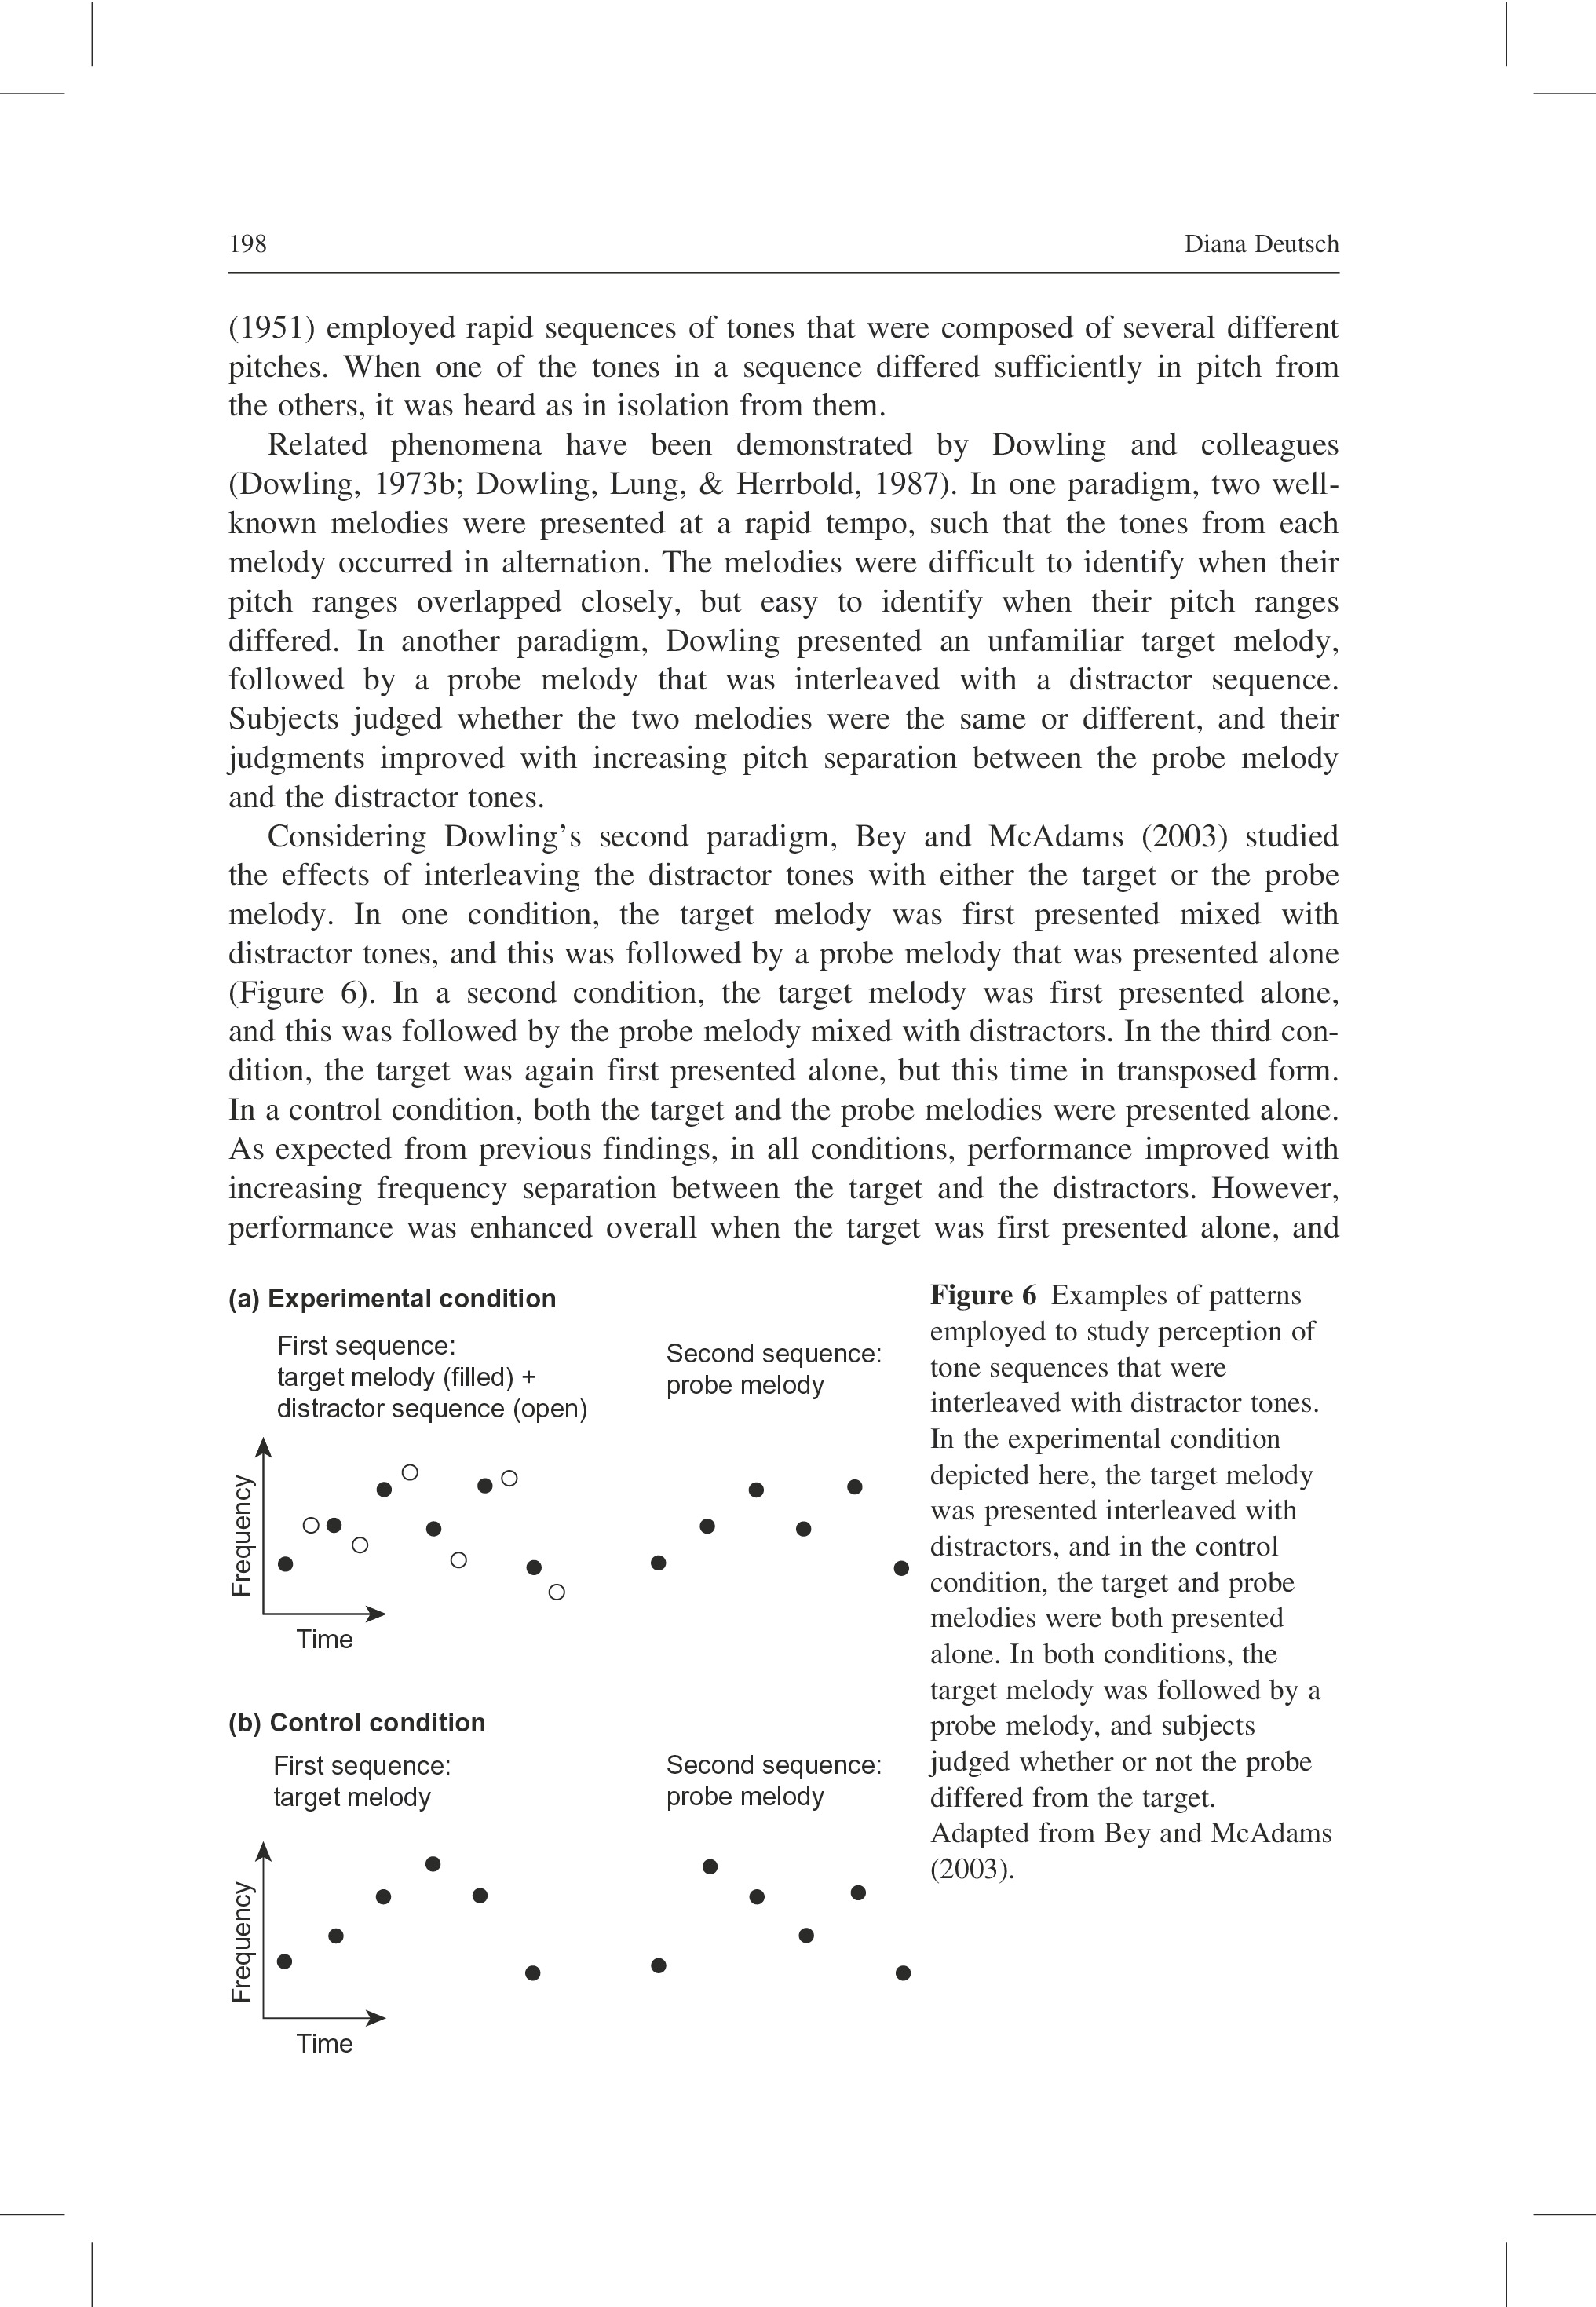caption: (929, 1276, 1354, 1909), (929, 1280, 1365, 1885), (219, 1276, 893, 1413), (214, 1706, 886, 1804)
figure: (228, 1807, 946, 2079), (212, 1427, 925, 1688)
text: (219, 826, 1347, 1241), (221, 419, 1347, 826), (219, 293, 1354, 412)
